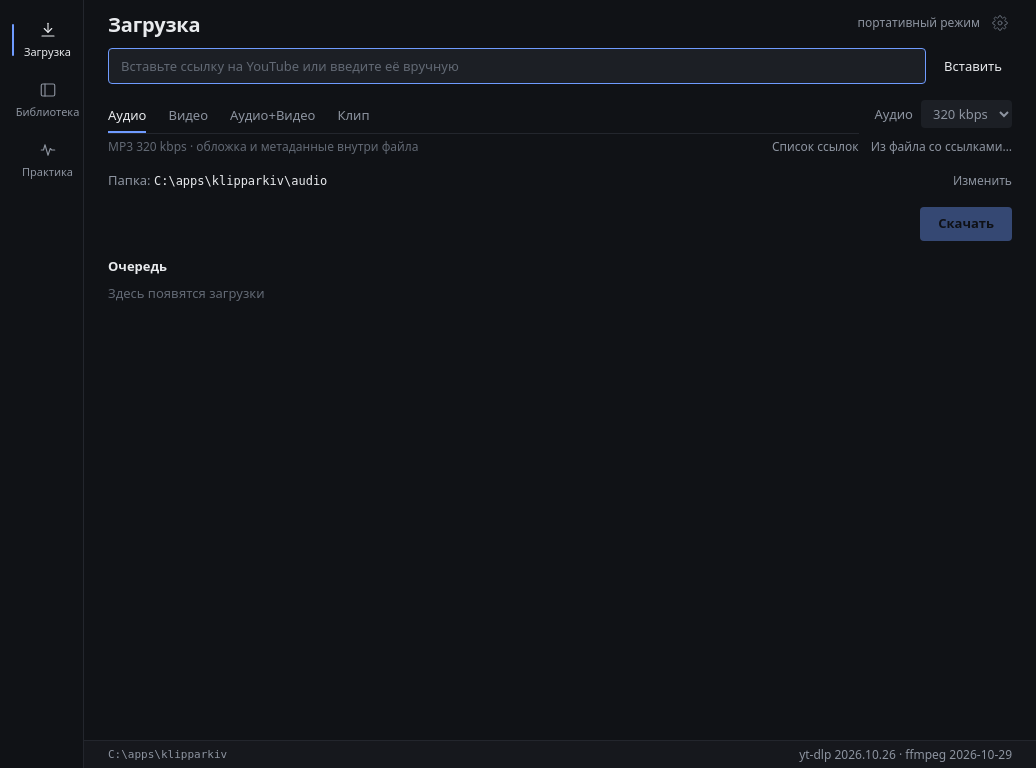
Test: App › navigates between download, library and practice
Expected: the text "yt-dlp 2026.10.26 · ffmpeg 2026-10-29" is shown, [799, 746, 1012, 763]
Click the button "Библиотека": (48, 100) [12, 72, 83, 128]
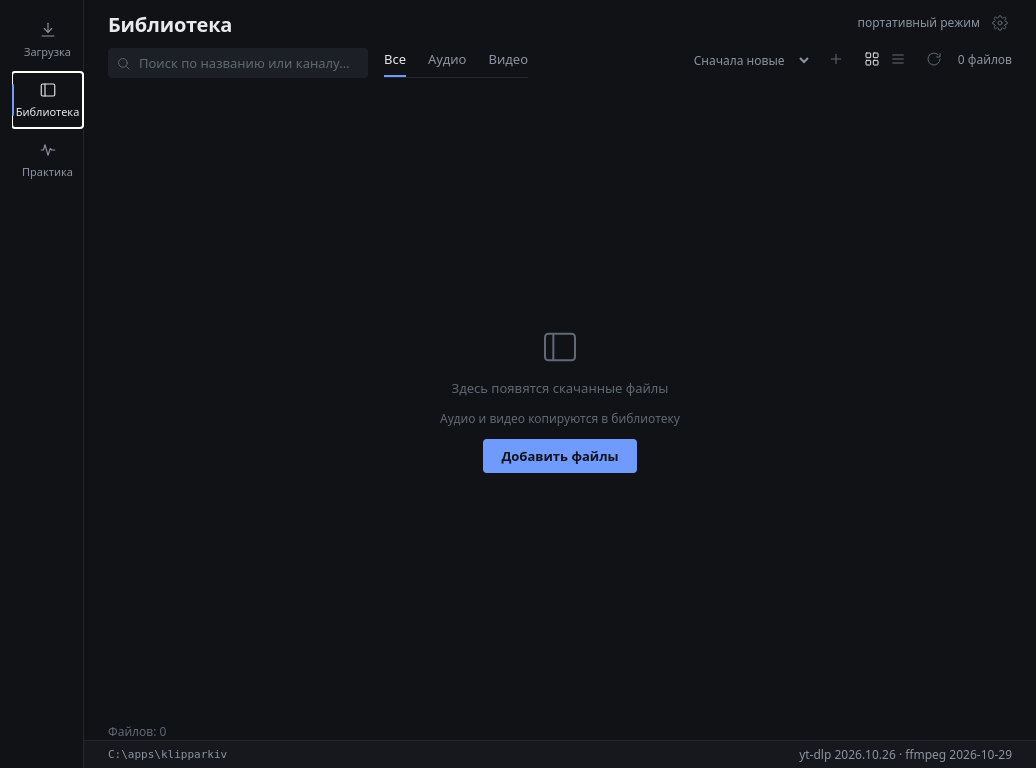
Expected: the heading "Библиотека" is shown, [108, 10, 232, 38]
Expected: the text "Здесь появятся скачанные файлы" is shown, [452, 379, 668, 398]
Click the button "Практика": (48, 160) [12, 132, 83, 188]
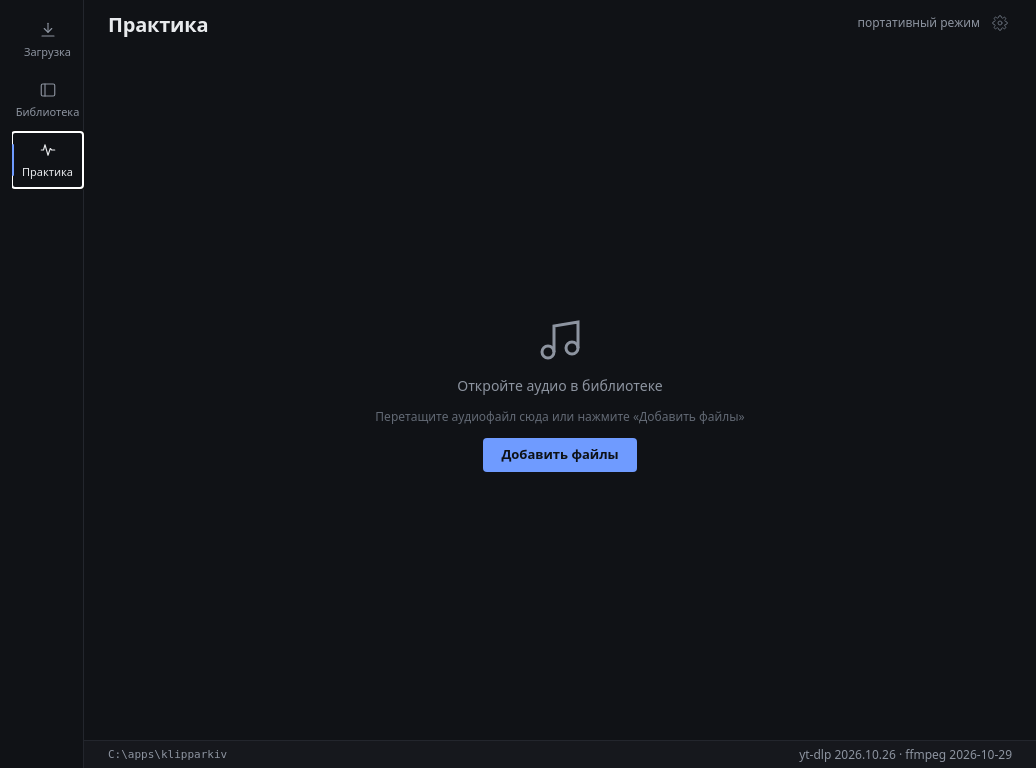
Expected: the heading "Практика" is shown, [108, 10, 208, 38]
Click the button "Загрузка": (48, 40) [12, 12, 83, 68]
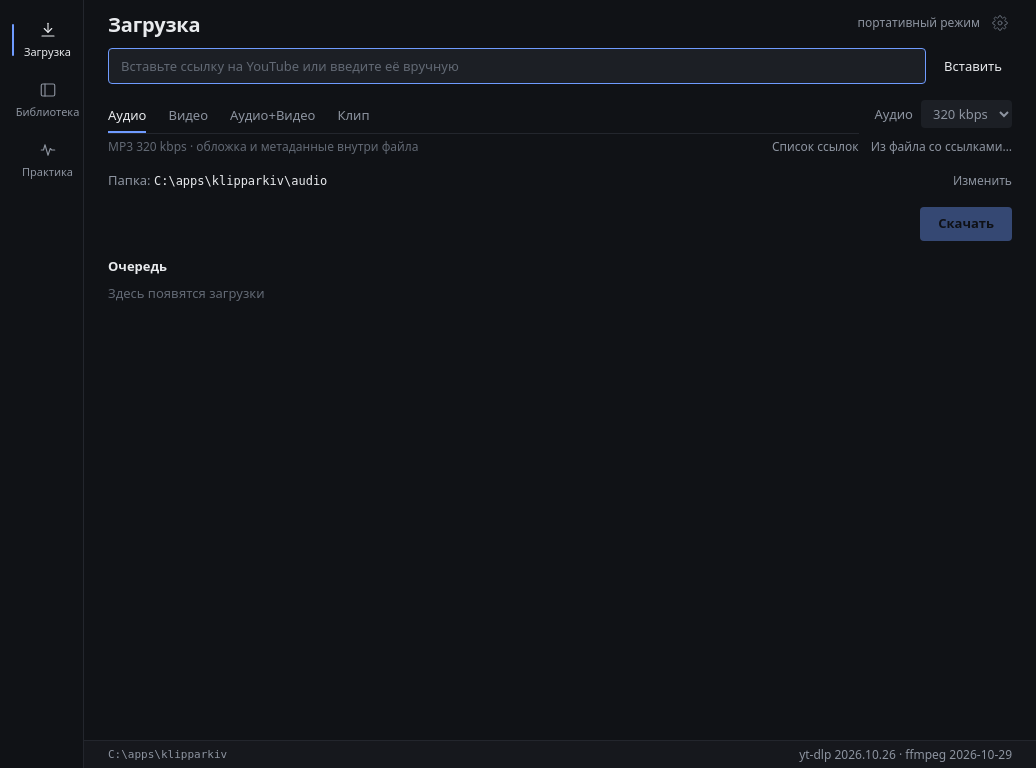
Expected: the heading "Загрузка" is shown, [108, 10, 200, 38]
